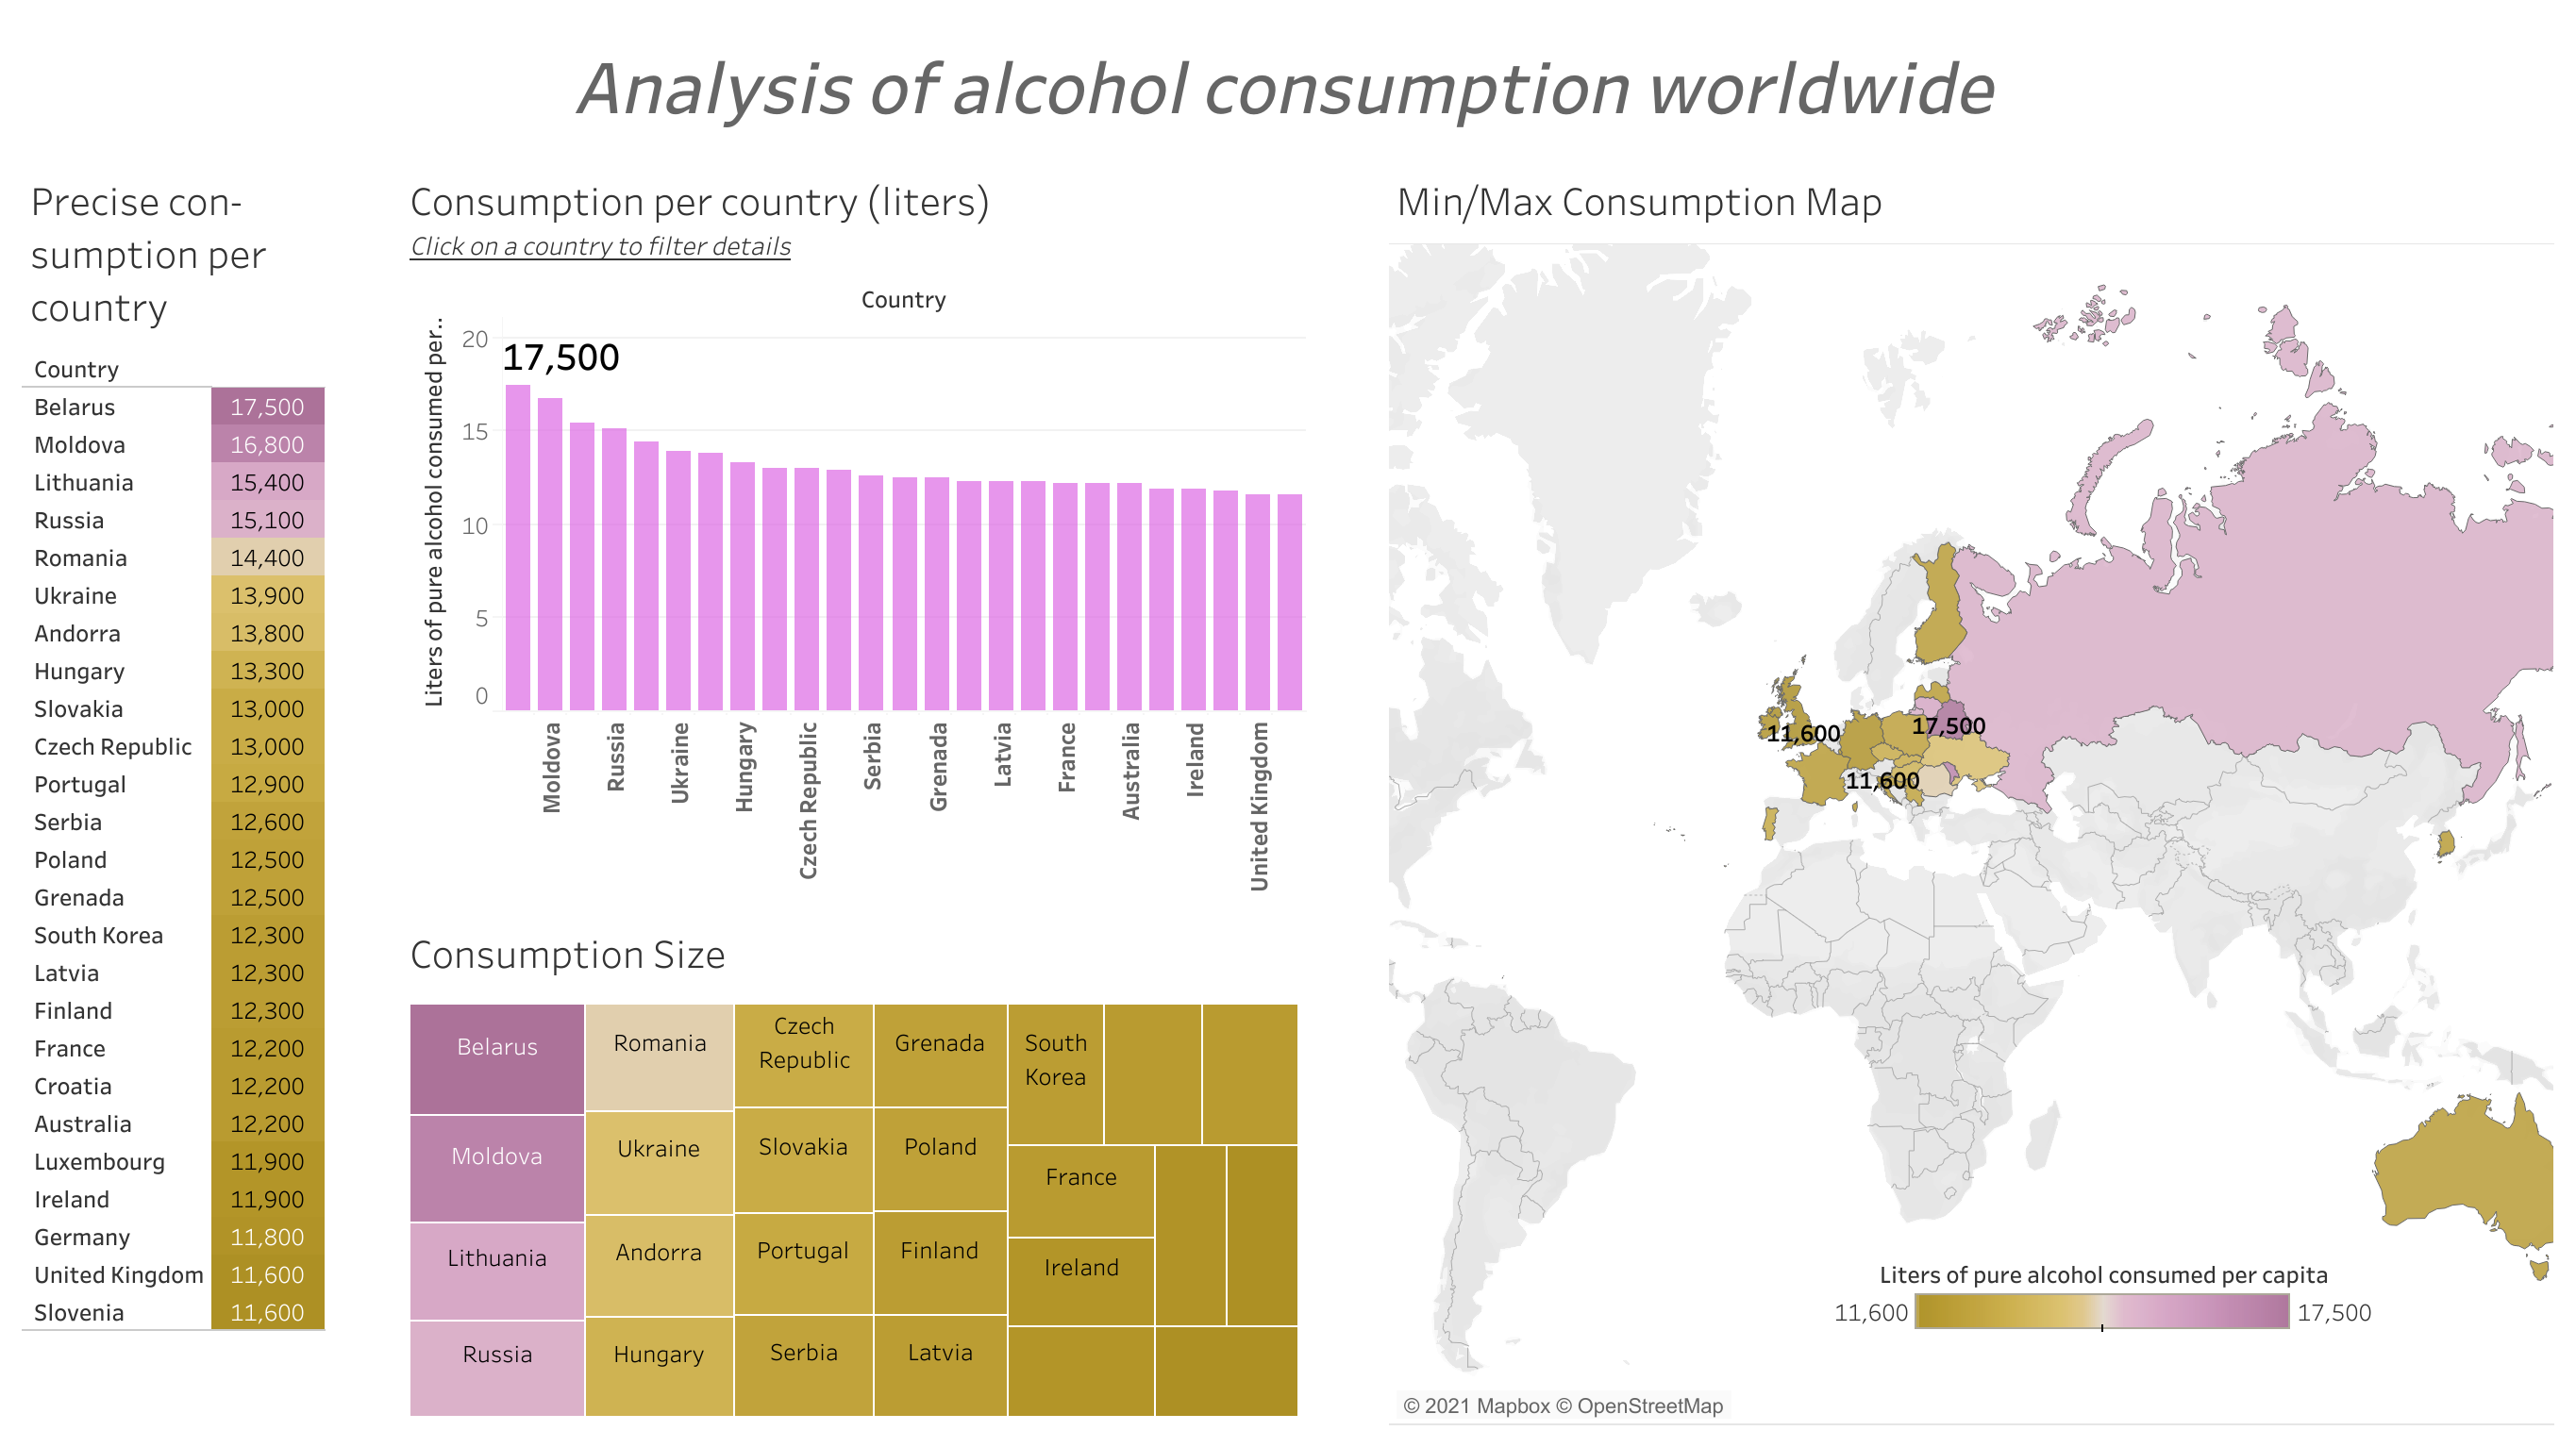

This screenshot's page, from the dashboard's own definition file:
{"tool":"tableau","page":{"name":"Dashboard 1","canvas":[1366,768],"ordinal":0},"visuals":[{"type":"text","box":[8,8,1350,74]},{"type":"worksheet","title":"Precise consumption per country","mark":"Square","rows":["Country"],"box":[8,82,201,678]},{"type":"worksheet","title":"Alcohol consumed per capita per country (liters)","mark":"Bar","rows":["Liters of pure alcohol consumed per capita"],"cols":["Country"],"box":[209,82,487,399.2]},{"type":"blank","box":[696,82,36,678]},{"type":"worksheet","title":"Map Analysis - Min/Max consumption","mark":"Automatic","box":[732,82,626,678]},{"type":"worksheet","title":"Alcohol consumption size","mark":"Automatic","box":[209,481.2,487,278.8]},{"type":"legend","title":"Map Analysis - Min/Max consumption","param":"[federated.0u0qevp0ih1hxy12z396h14y56k3].[sum:Liters of pure alcohol consumed pe","box":[968,662,294,46]}]}

Visuals, with their boxes in screenshot pixels (x1, y1, x2, y2), scaled from the page's 1366x768 canvas onto the 2576x1447 screenshot:
text: x1=15 y1=15 x2=2561 y2=155
"Precise consumption per country" worksheet (Square marks): x1=15 y1=155 x2=394 y2=1432
"Alcohol consumed per capita per country (liters)" worksheet (Bar marks): x1=394 y1=155 x2=1313 y2=906
blank: x1=1313 y1=155 x2=1380 y2=1432
"Map Analysis - Min/Max consumption" worksheet: x1=1380 y1=155 x2=2561 y2=1432
"Alcohol consumption size" worksheet: x1=394 y1=906 x2=1313 y2=1432
"Map Analysis - Min/Max consumption" legend: x1=1826 y1=1247 x2=2380 y2=1334
